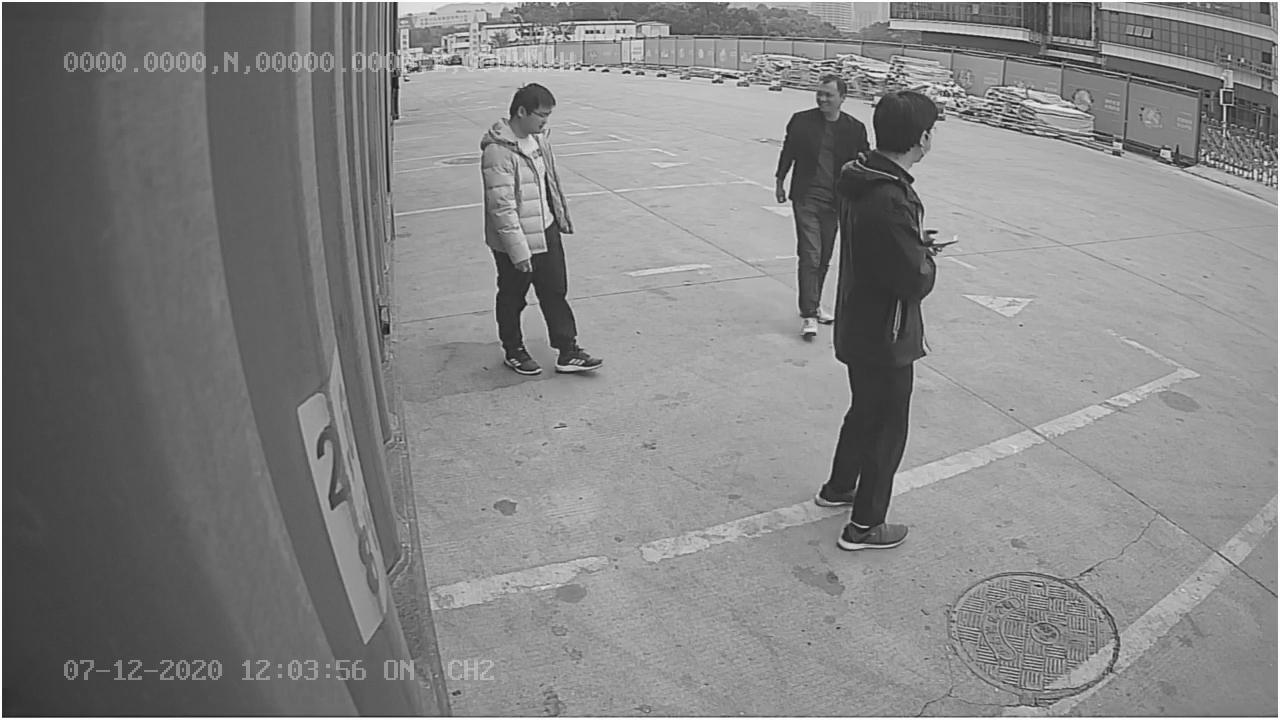person: (476, 83, 605, 387)
